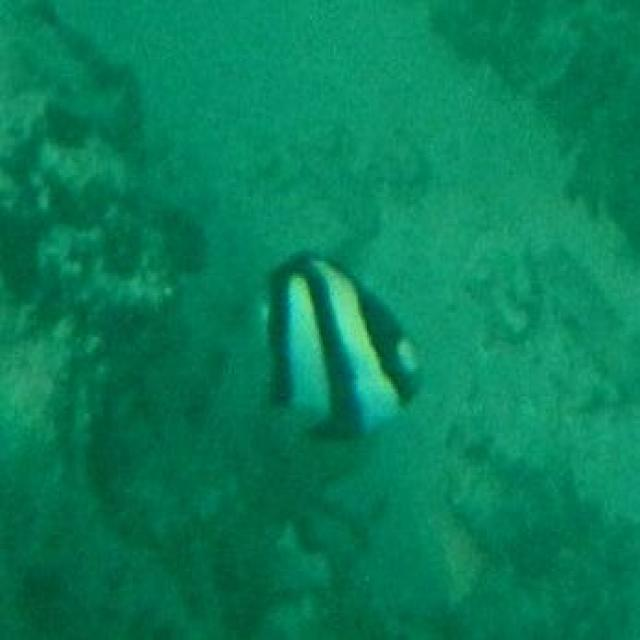Three_striped DasmselFish: (240, 250, 417, 431)
